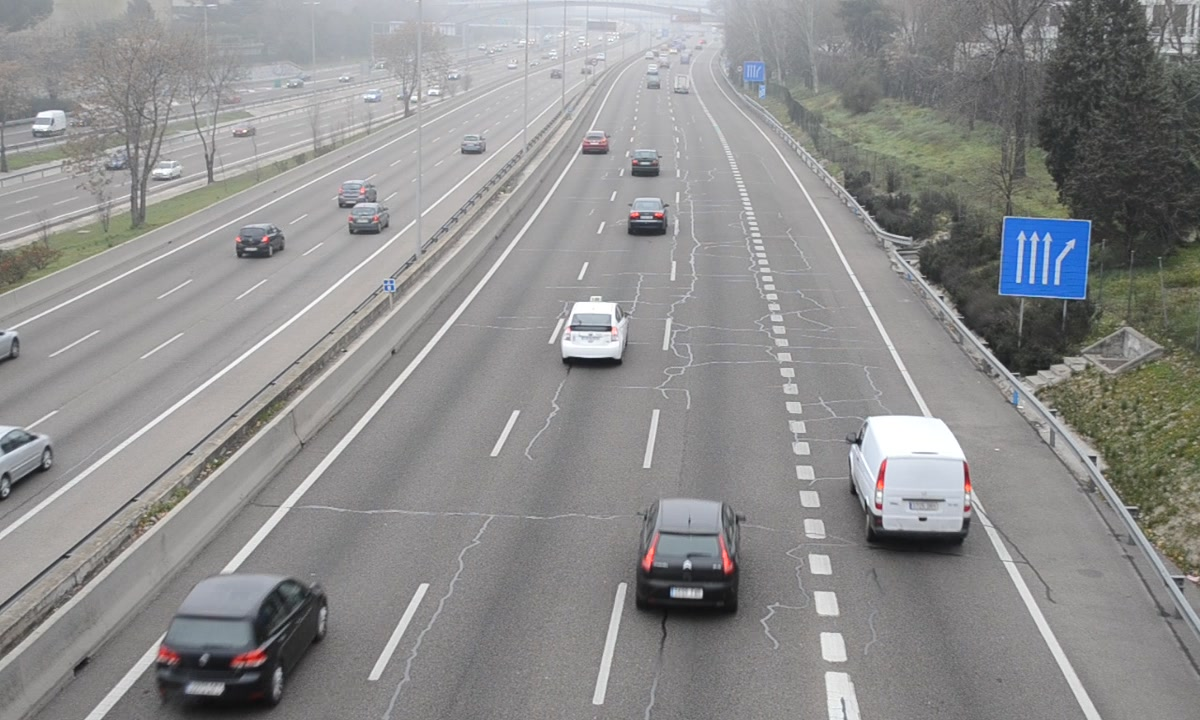car: (154, 574, 331, 702), (639, 498, 737, 608), (561, 301, 626, 361), (628, 195, 666, 236), (630, 147, 660, 177), (580, 130, 610, 155)
van: (853, 415, 973, 545)
